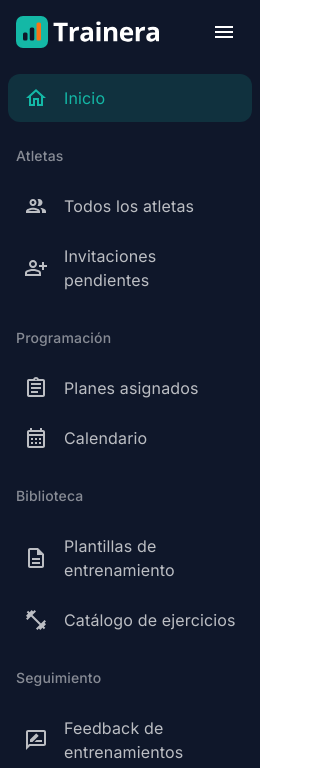
Test: NavigationDrawer › collapses to a rail of icons that keep their names
What coordinates should you click on to do the following:
click the button named "Contraer menú"
I would click on:
 (224, 32)
Its box is x1=204 y1=12 x2=244 y2=52.
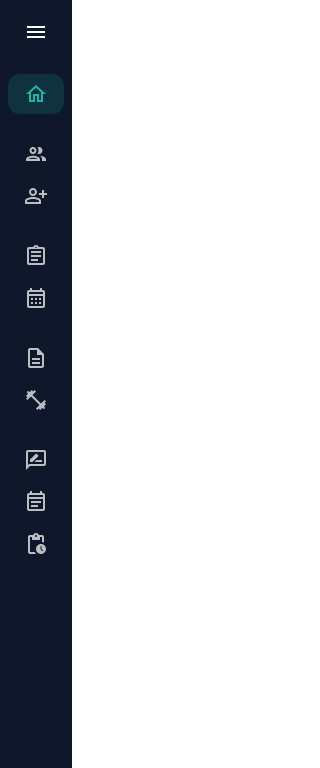
Expected: the button named "Expandir menú" is collapsed, x1=16 y1=12 x2=56 y2=52
Expected: the picture "Trainera" is gone
Expected: the list item "Atletas" is gone
